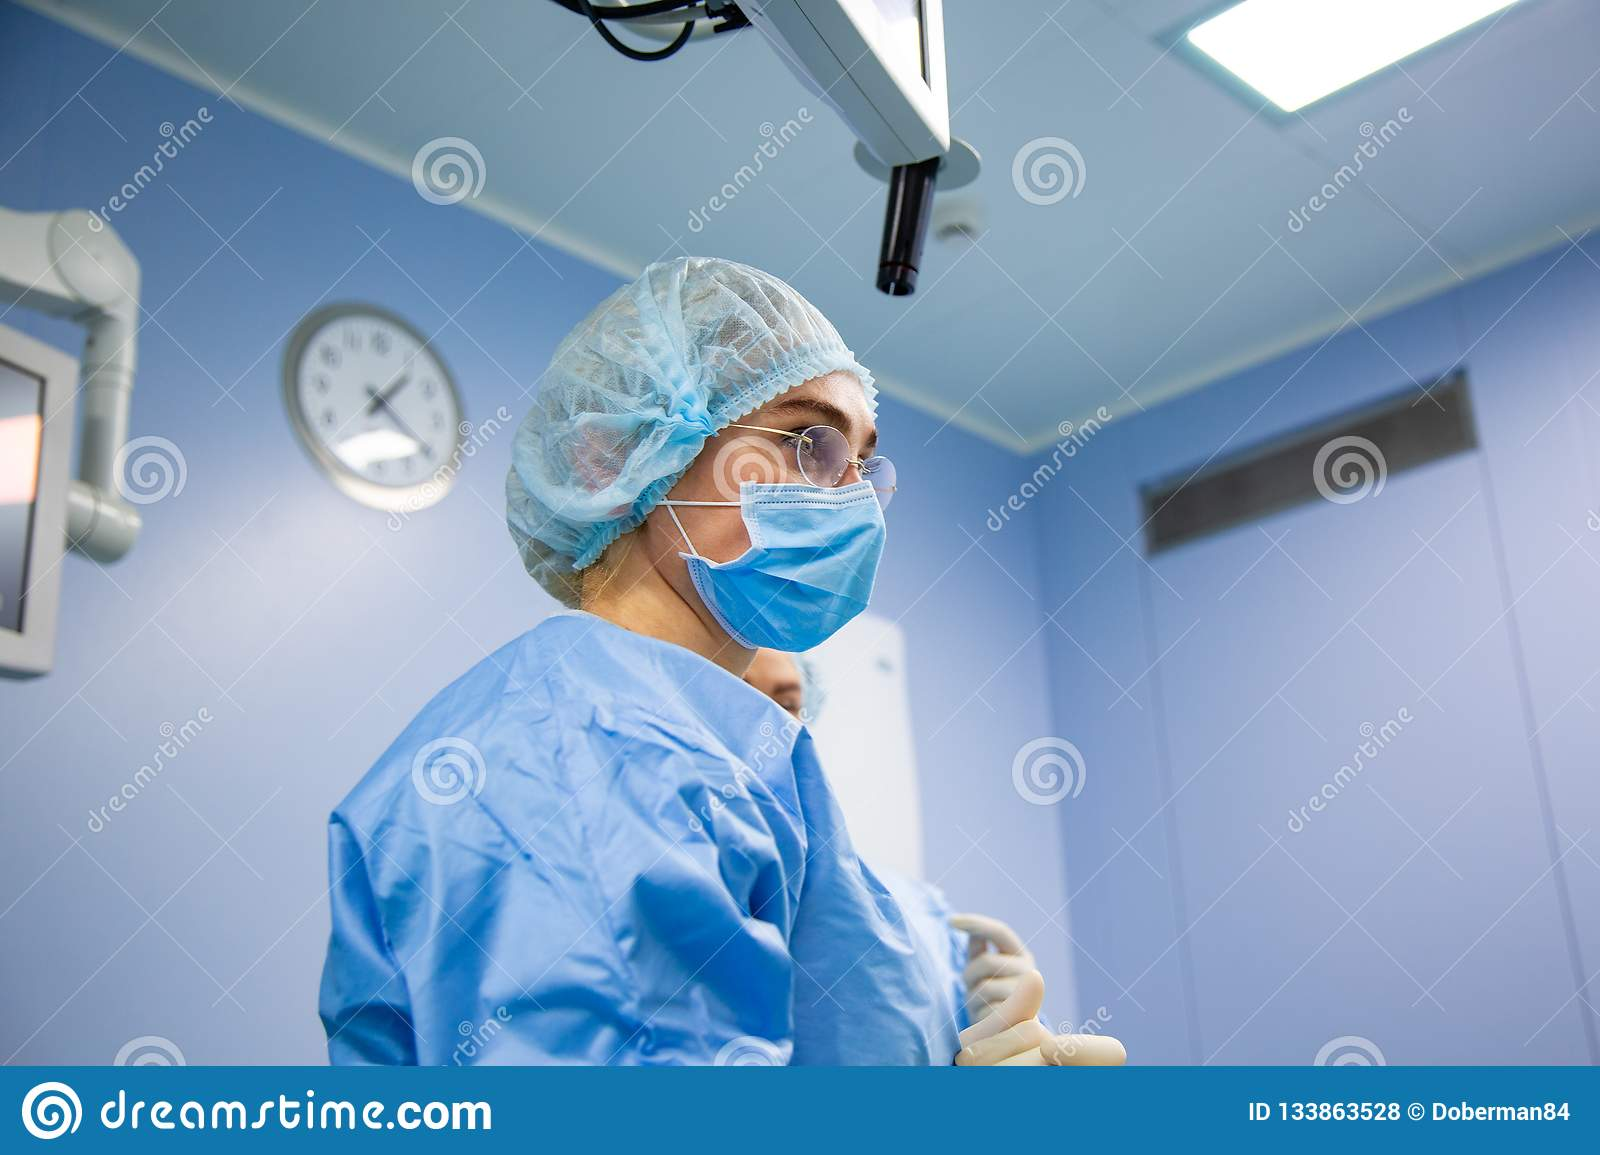mask: (677, 486, 902, 650)
